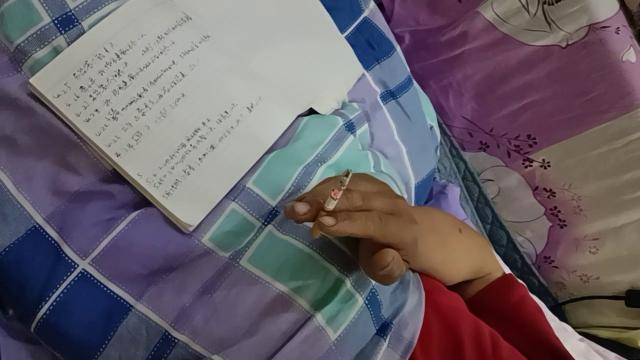Cigarette: (310, 170, 352, 238)
